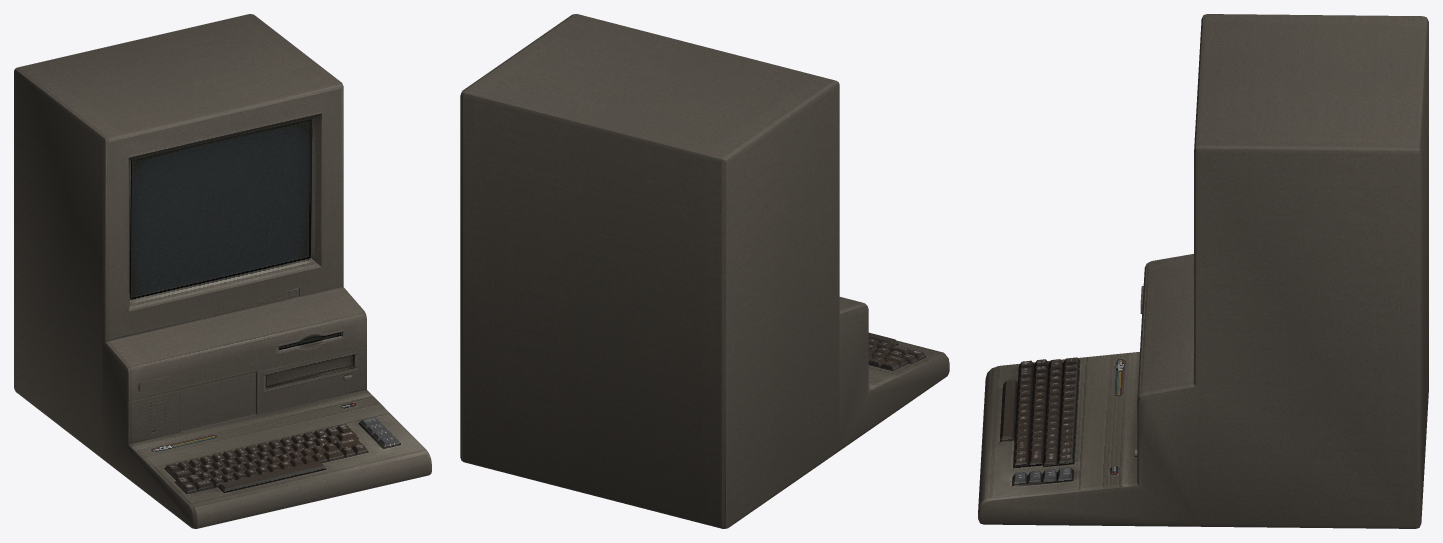
The model's file is computer_1.glb.
3 views of the same model, side by side, from view 1: azimuth 30°, elevation 25°; view 2: azimuth 150°, elevation 25°; view 3: azimuth 270°, elevation 25° (orthographic). The views are drawn at different scales.
Visible parts, largest first — view 1: computer_1; view 2: computer_1; view 3: computer_1.
Part boxes in pixels (bbox=[...]): computer_1: bbox=[14, 14, 431, 528]; computer_1: bbox=[460, 14, 949, 528]; computer_1: bbox=[978, 14, 1428, 528].
Bounding box in the file's own units: 0.6135 × 0.777 × 0.8325.
Materials: 2 (2 with a texture image).
